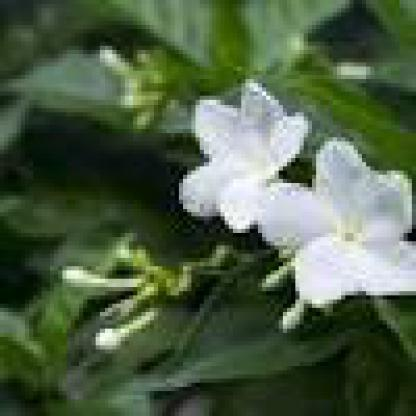Melati: (259, 143, 413, 305), (172, 68, 297, 230)
